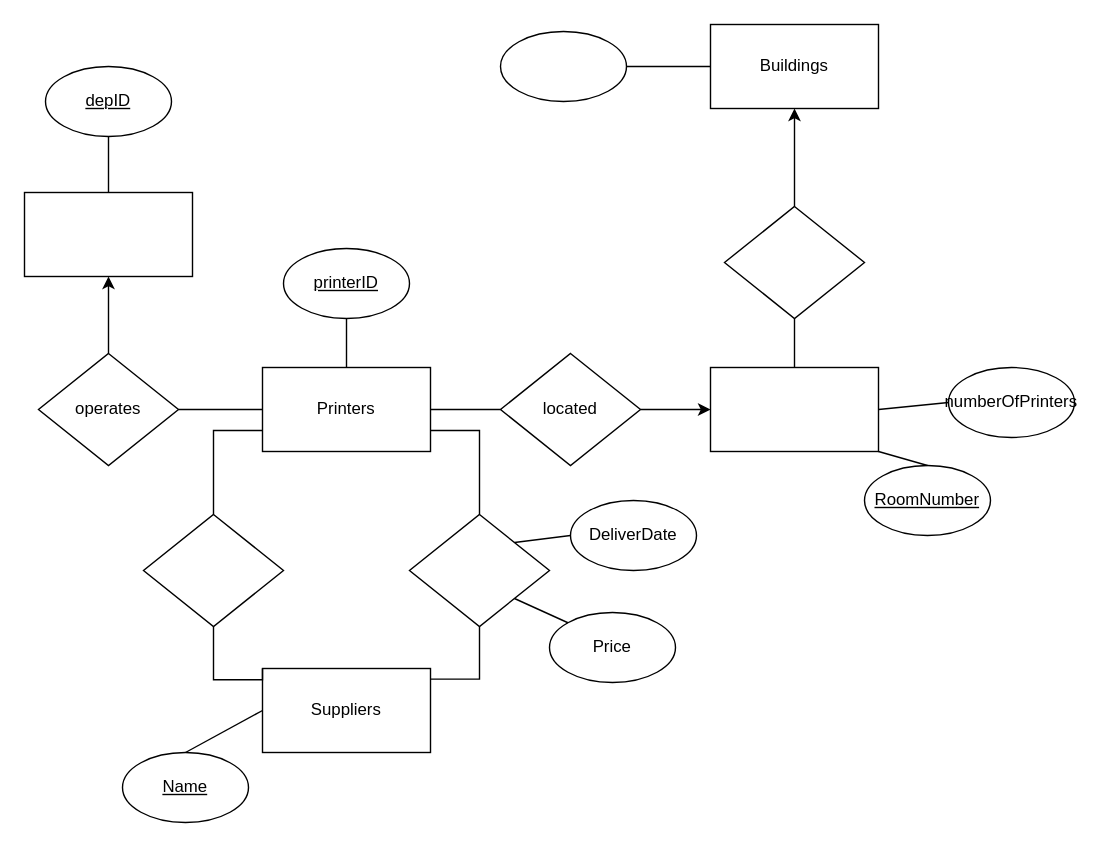
This 1102x847 diagram has some shape labels left out. The shapes that lost their labels are listed below. From the top down, each one's centre as x and y in pixels, then its label:
(x=562, y=66): BuildingID
(x=107, y=233): Departments
(x=793, y=261): belongs
(x=793, y=408): Rooms
(x=213, y=569): supplied by
(x=479, y=569): sells
